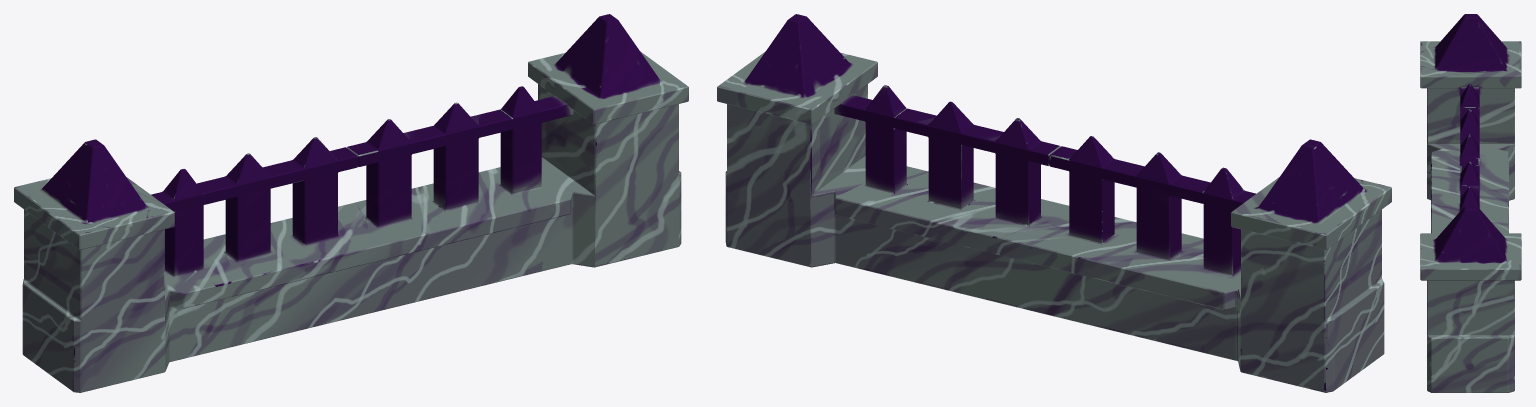
Rendered from wall.fbx.
3 renders of one model, left to right at view 1: azimuth 30°, elevation 25°; view 2: azimuth 150°, elevation 25°; view 3: azimuth 270°, elevation 25°, orthographic. The views are drawn at different scales.
Parts seen in each view (by area): view 1: Wall; view 2: Wall; view 3: Wall.
Part boxes in pixels (bbox=[...]): Wall: bbox=[14, 14, 688, 392]; Wall: bbox=[717, 14, 1391, 392]; Wall: bbox=[1420, 14, 1521, 392].
Bounding box in the file's own units: 25852 × 8971 × 4850.
